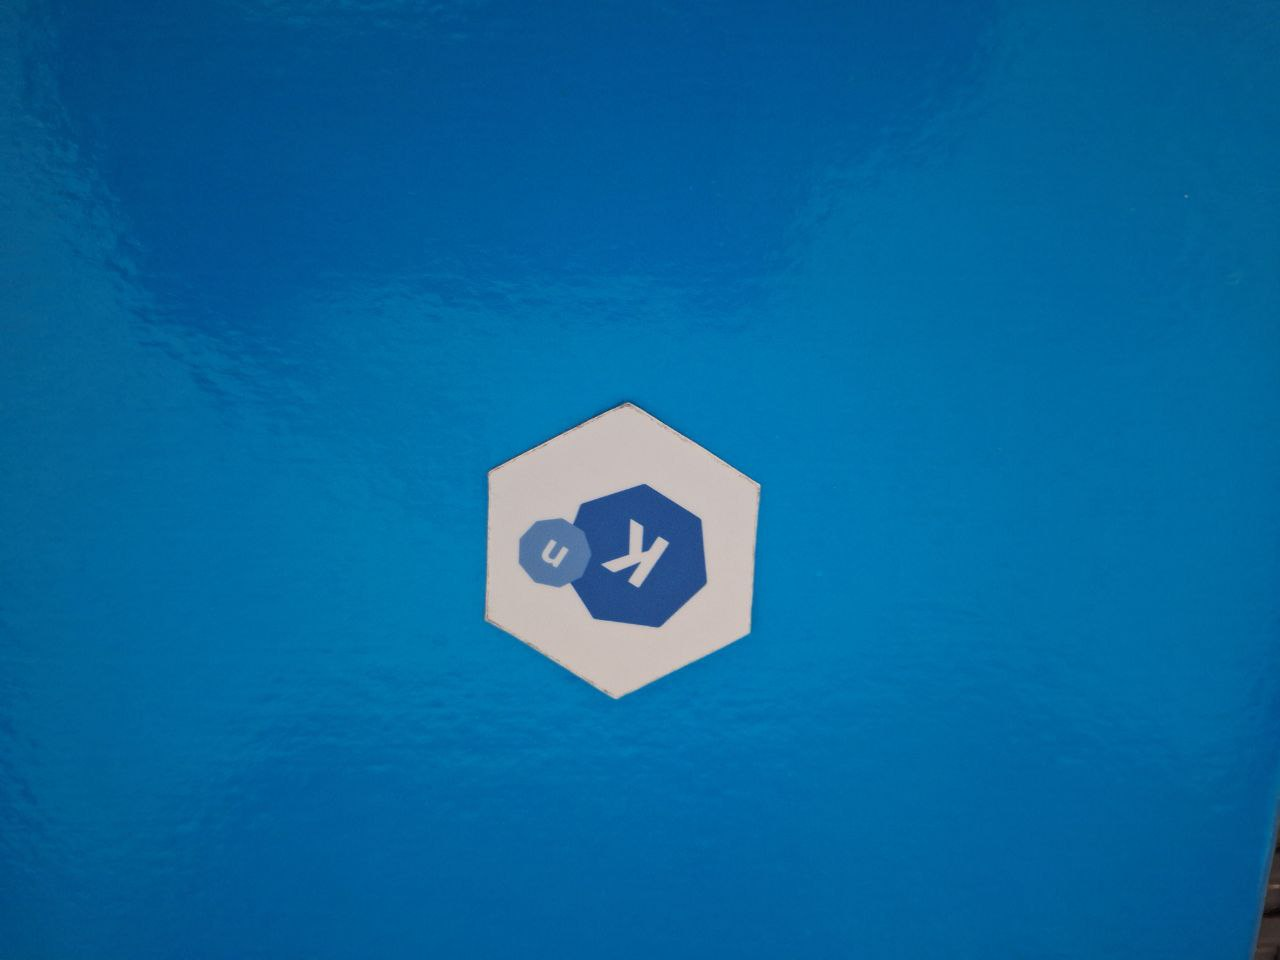knative: (517, 484, 710, 631)
